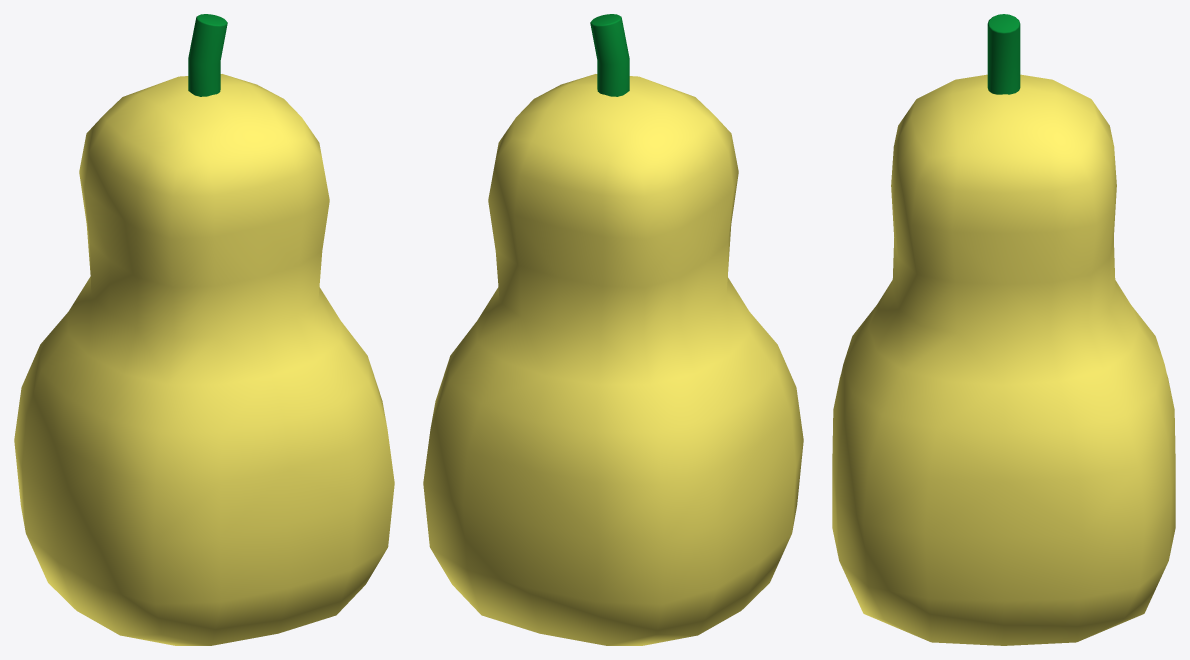
Rendered from Farm_1_Turnip_1.glb.
3 views of the same model, side by side, from view 1: azimuth 30°, elevation 25°; view 2: azimuth 150°, elevation 25°; view 3: azimuth 270°, elevation 25° (orthographic).
Visible parts, largest first — view 1: Farm_1_Turnip_1; view 2: Farm_1_Turnip_1; view 3: Farm_1_Turnip_1.
Part boxes in pixels (x1,y1,x2,y2): Farm_1_Turnip_1: (14, 14, 394, 645); Farm_1_Turnip_1: (423, 14, 803, 645); Farm_1_Turnip_1: (832, 14, 1175, 645).
Bounding box in the file's own units: 0.337 × 0.6434 × 0.337.
Materials: 1 (1 with a texture image).
